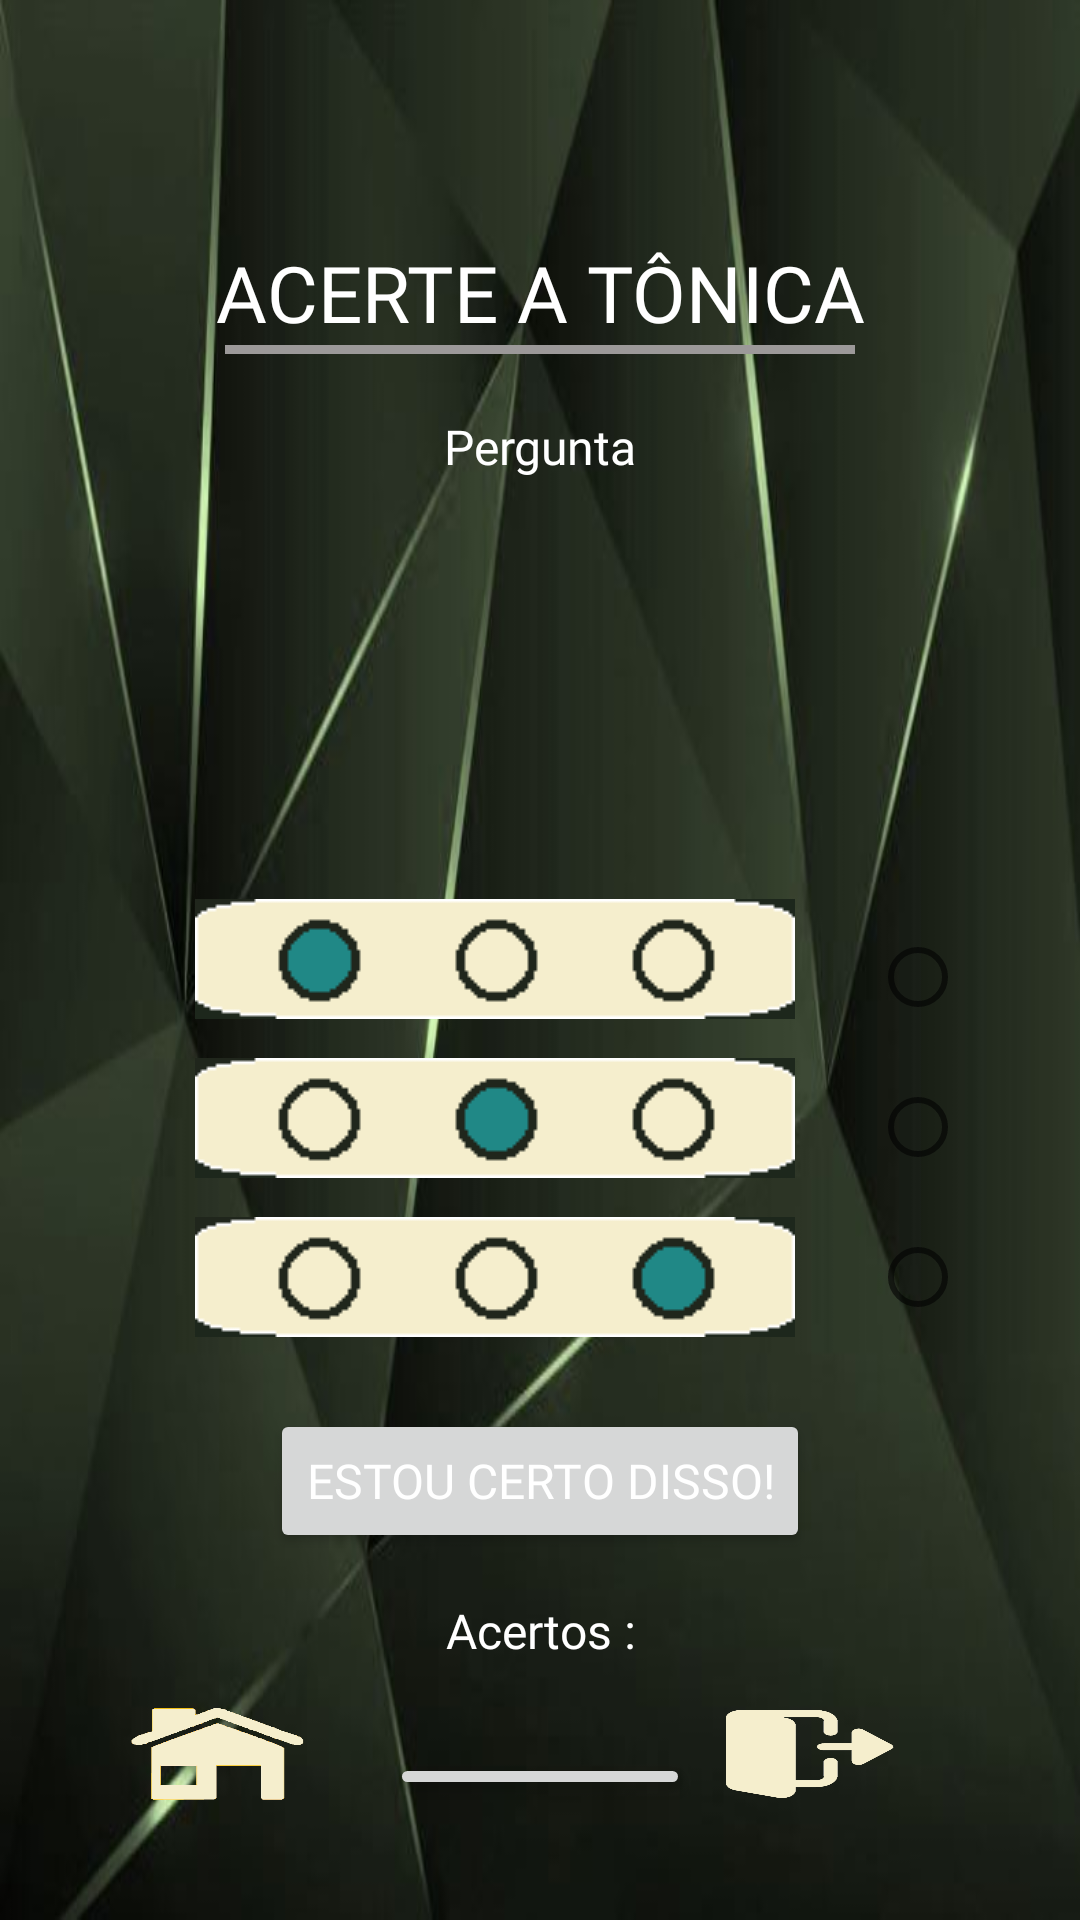

Named icons in this screenshot (1080×1920) and their centers, point (x, y):
homef: point (217, 1754)
sair: point (810, 1754)
